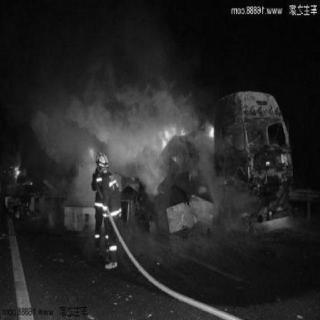other: (265, 156, 273, 168)
